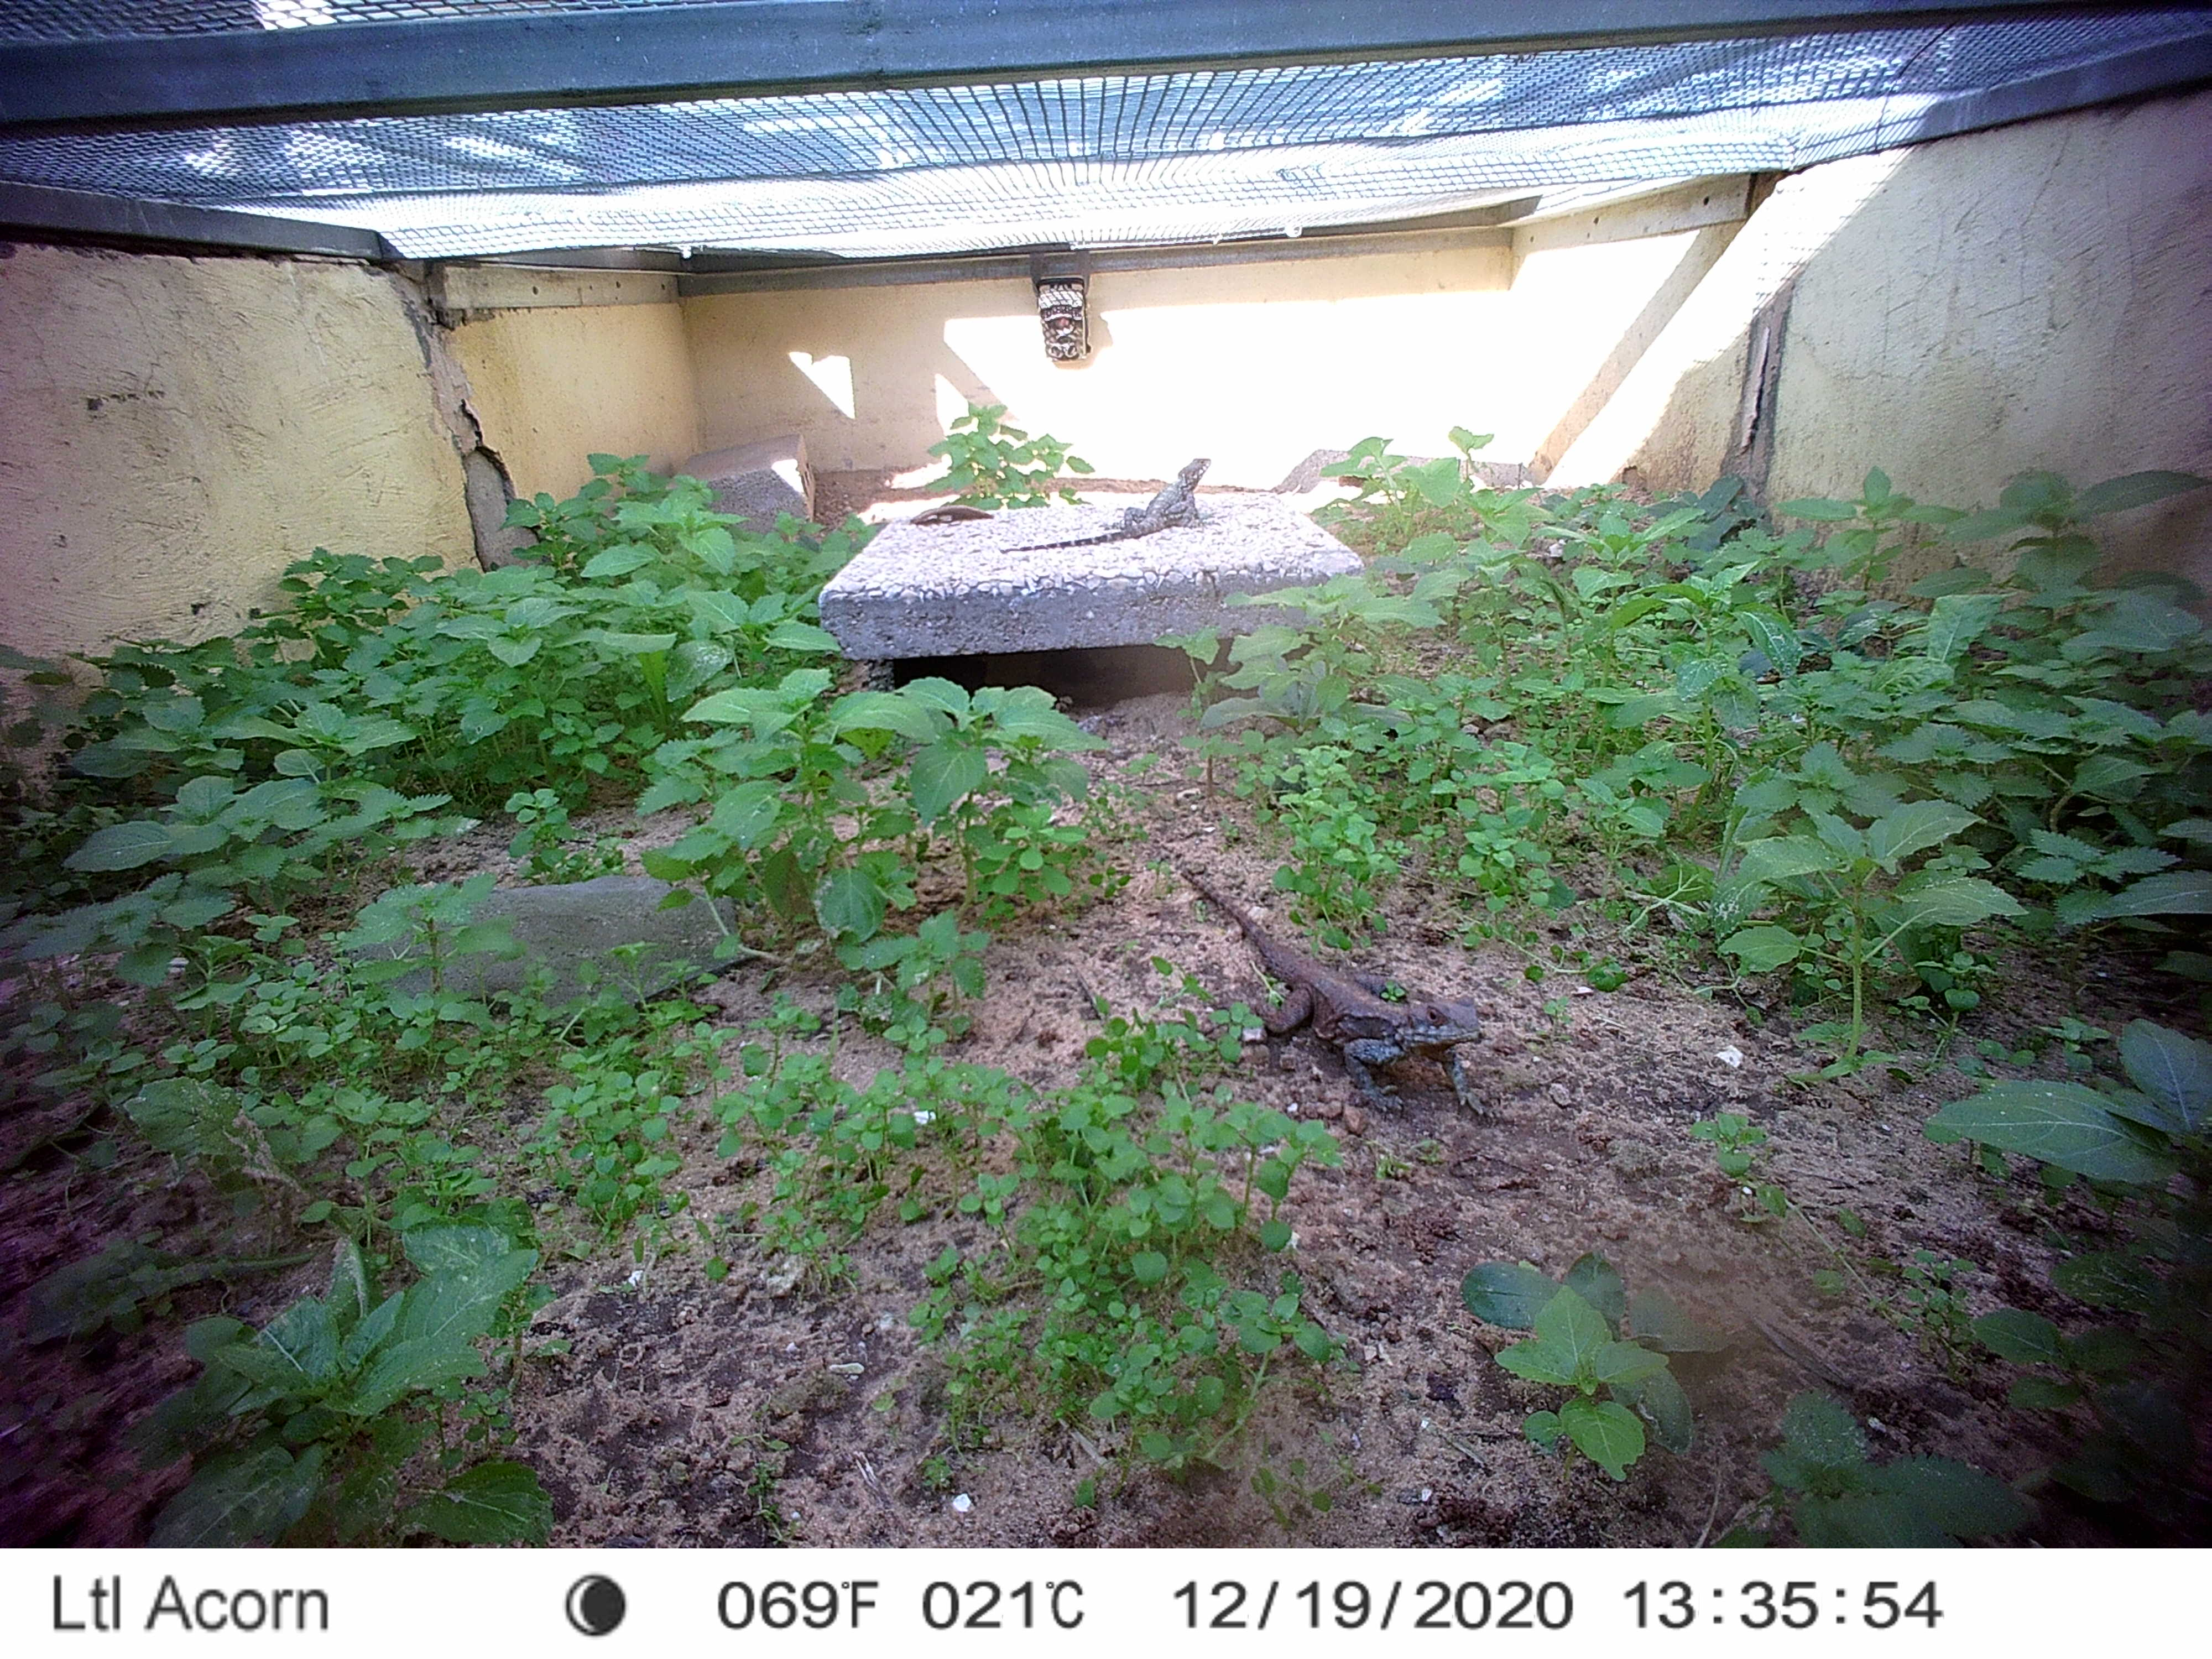lizard: (1169, 859, 1501, 1124), (996, 455, 1216, 551)
